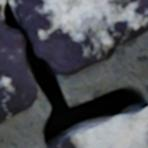brick: (48, 107, 147, 147)
broken_brick: (9, 0, 147, 75), (0, 0, 38, 122)
crack: (1, 0, 147, 147)
